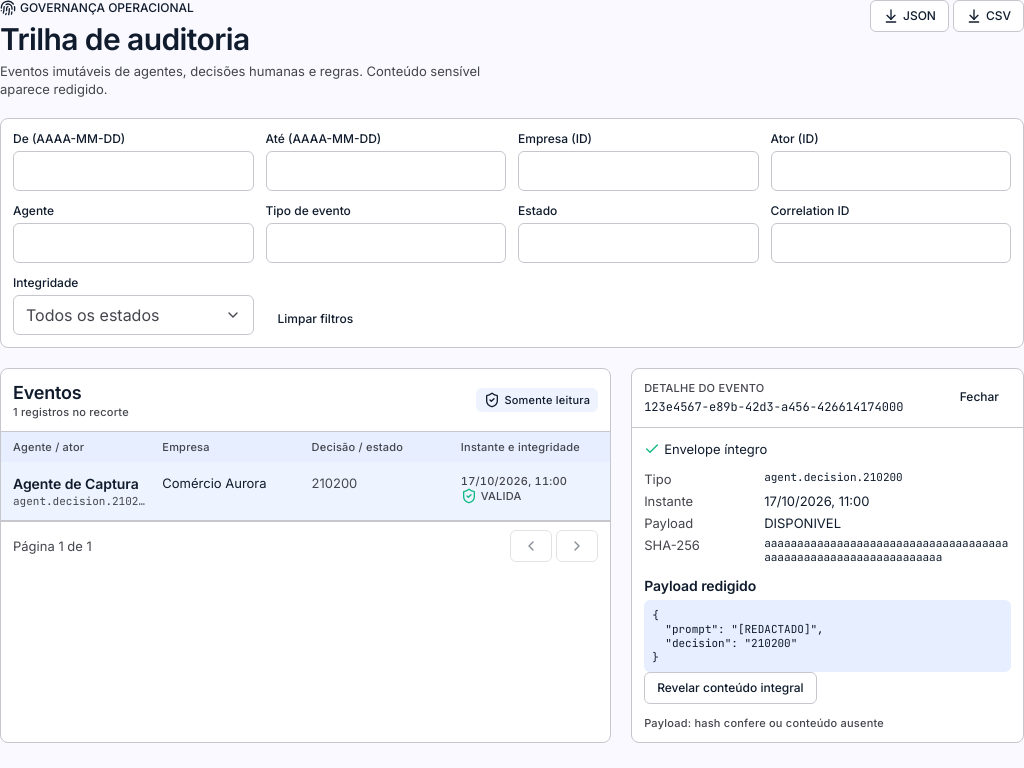
Test: TrilhaDeAuditoria › pede justificativa e confirmação antes de revelar payload; API registra autoria
Expected: the heading "Payload redigido" is shown, [644,577,756,594]
Click the button "Revelar conteúdo integral" at x=730, y=688, box [644,672,816,704]
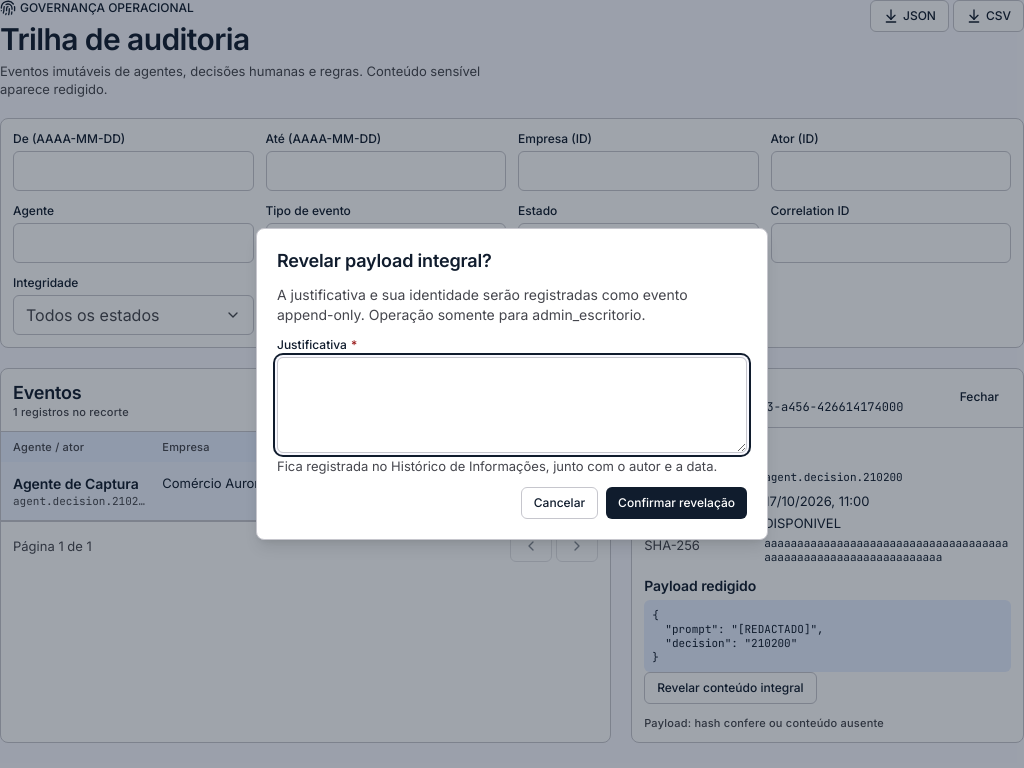
Type "Investigação aprovada pelo PI" into the text box labelled "Justificativa*" at x=512, y=405, box [277,357,747,453]
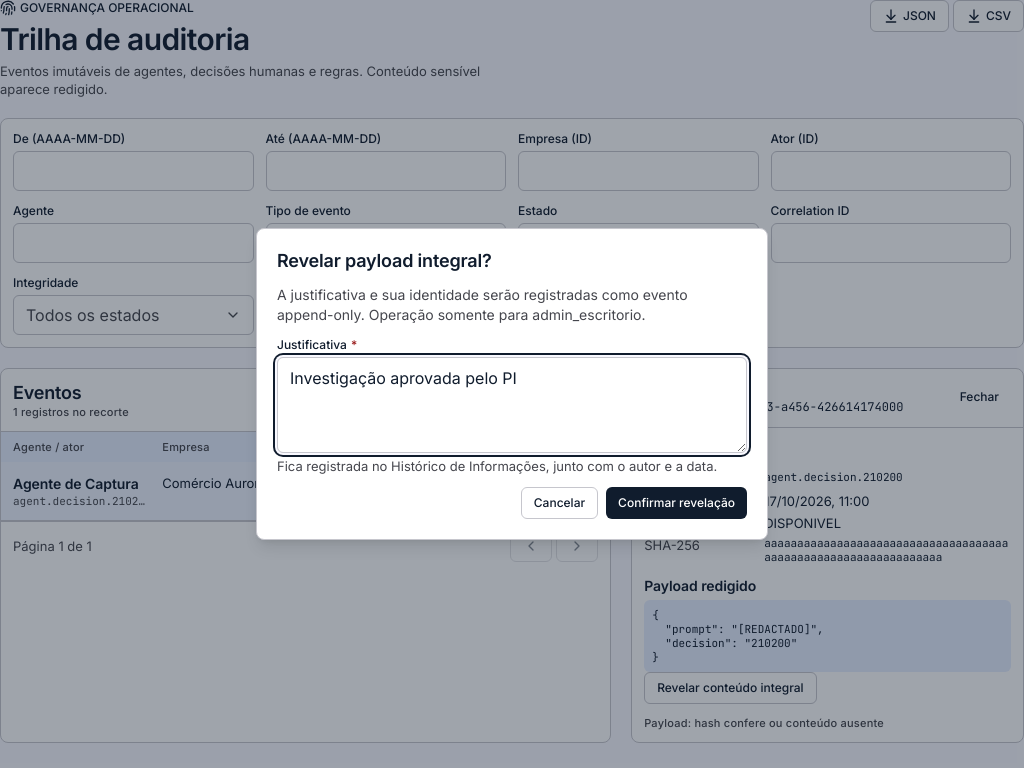
Click the button "Confirmar revelação" at x=677, y=503, box [606,487,747,519]
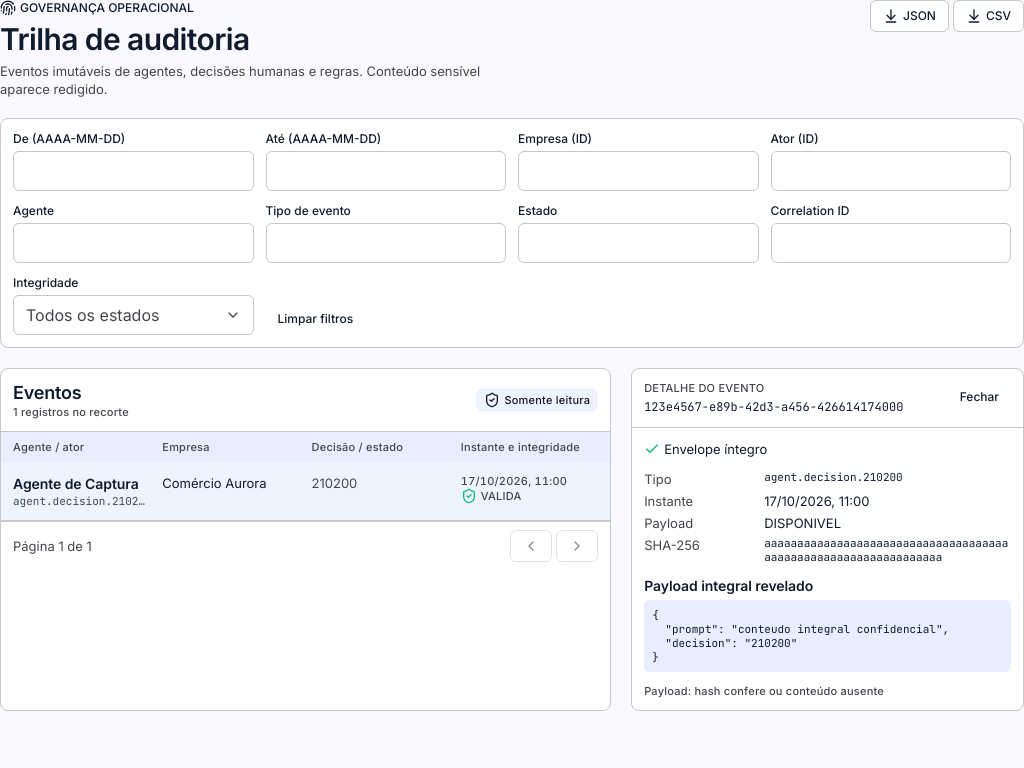
Expected: the heading "Payload integral revelado" is shown, [644,577,813,594]
Expected: the text "conteudo integral confidencial" is shown, [652,608,949,664]
